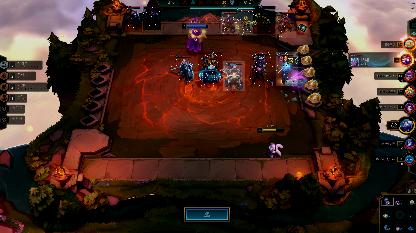1_leona: (124, 6, 142, 32), (143, 6, 161, 30)
1_pantheon: (250, 52, 274, 88)
1_sejuani: (276, 10, 296, 38), (221, 12, 237, 34)
1_wukong: (237, 8, 257, 36)
2_leona: (170, 54, 194, 86)
2_nunu: (198, 52, 222, 86)
2_sejuani: (223, 61, 245, 91)
2_wukong: (253, 6, 275, 34)
2_yone: (276, 52, 298, 86)
